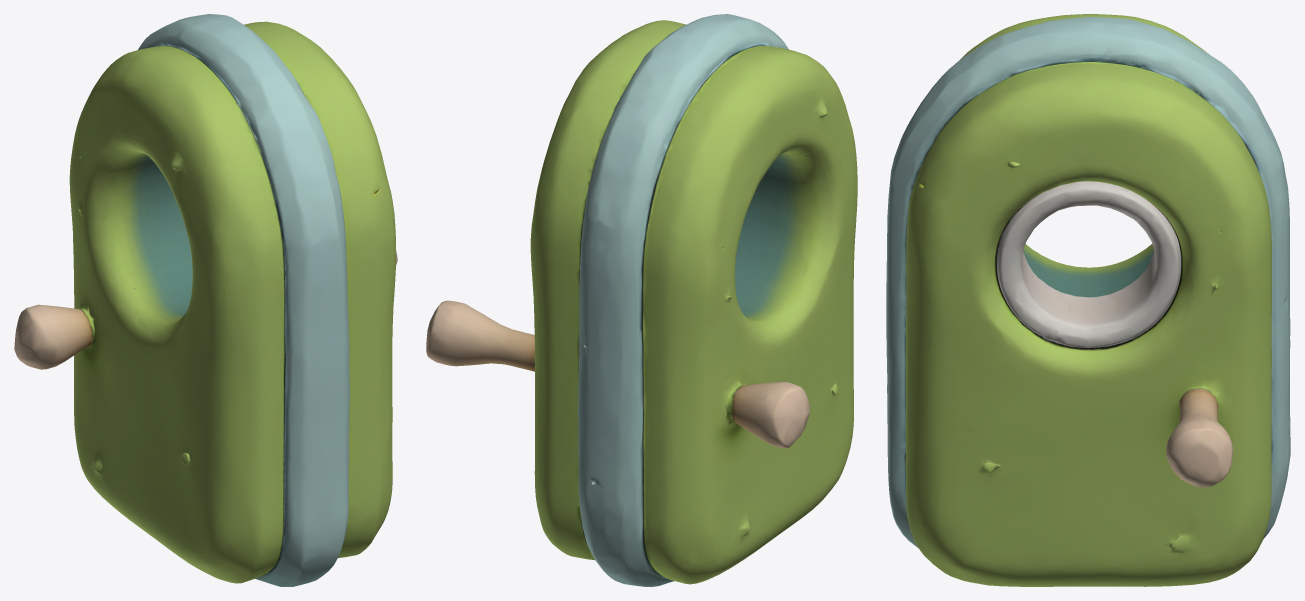
Rendered from door_h3.glb.
3 views of the same model, side by side, from view 1: azimuth 30°, elevation 25°; view 2: azimuth 150°, elevation 25°; view 3: azimuth 270°, elevation 25° (orthographic). The views are drawn at different scales.
Visible parts, largest first — view 1: tripo_node_6076a908-30cc-4806-acbc-827b6ea2ebd1; view 2: tripo_node_6076a908-30cc-4806-acbc-827b6ea2ebd1; view 3: tripo_node_6076a908-30cc-4806-acbc-827b6ea2ebd1.
Boxes of the visible parts, box(x1,y1,x2,y2) form: tripo_node_6076a908-30cc-4806-acbc-827b6ea2ebd1: box(14, 14, 397, 586); tripo_node_6076a908-30cc-4806-acbc-827b6ea2ebd1: box(426, 14, 857, 586); tripo_node_6076a908-30cc-4806-acbc-827b6ea2ebd1: box(886, 14, 1290, 586).
Size of the model in its own units: 0.7542 by 1 by 0.6736.
1 material, 1 textured.
